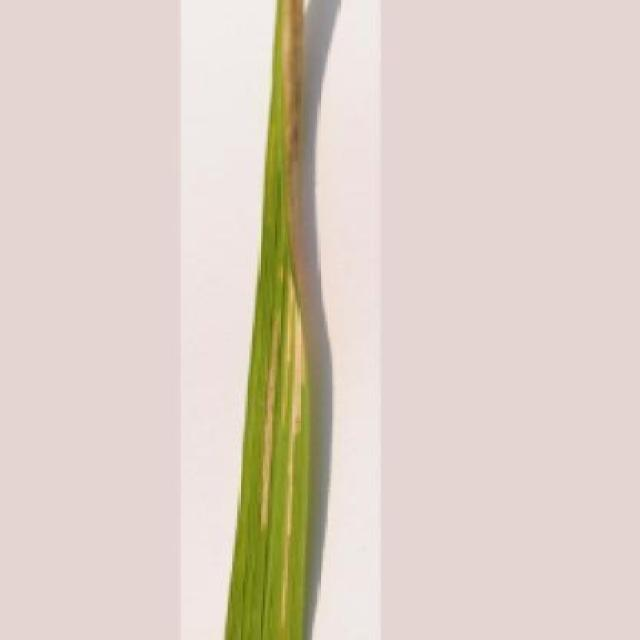Brown_Spot: (225, 0, 320, 640)
